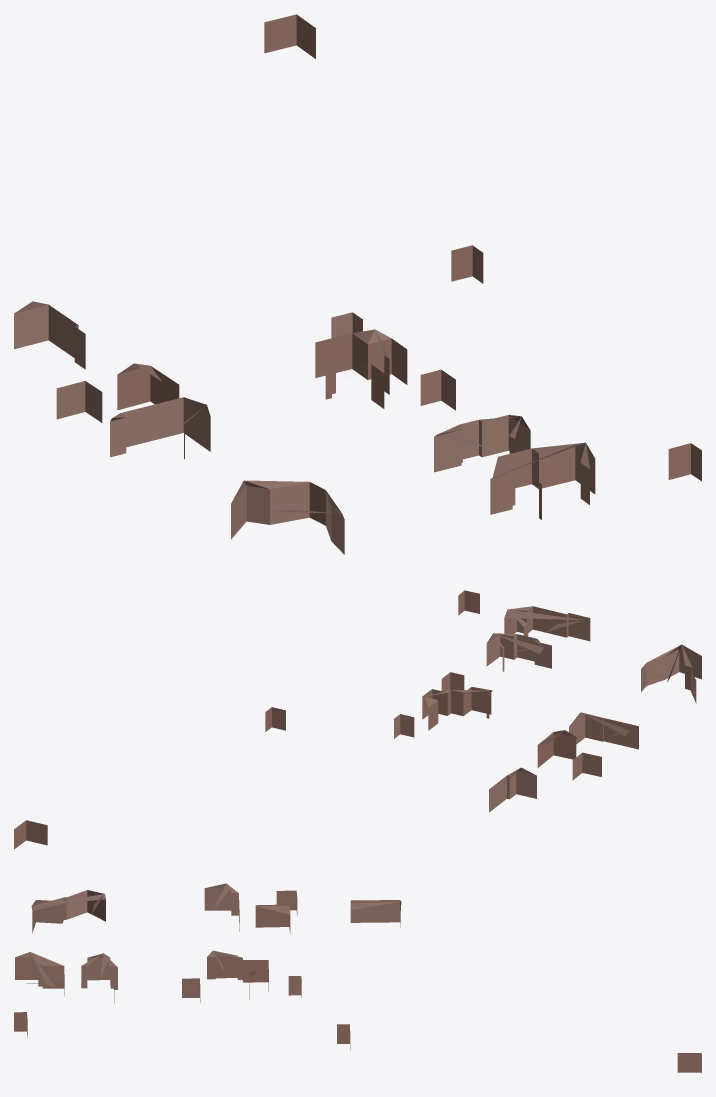
Rendered from c_1648_17829_buildings_residential.glb.
3 renders of one model, top to bottom at view 1: azimuth 30°, elevation 25°; view 2: azimuth 150°, elevation 25°; view 3: azimuth 270°, elevation 25°, orthographic. The views are drawn at different scales.
Parts seen in each view (by area): view 1: geometry_0; view 2: geometry_0; view 3: geometry_0.
Boxes of the visible parts, x1,y1,x2,y2 form: geometry_0: (14, 14, 701, 554); geometry_0: (14, 590, 701, 849); geometry_0: (14, 883, 701, 1073).
Bounding box in the file's own units: 152 × 10.94 × 256.
